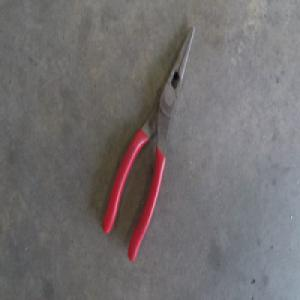Pliers: (104, 23, 194, 257)
